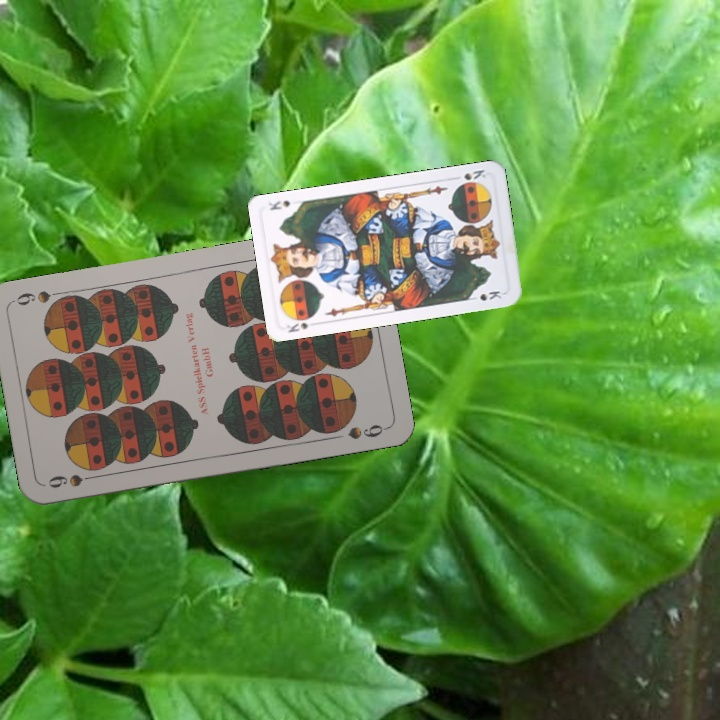S9: (44, 463, 102, 491)
SK: (283, 312, 321, 335), (449, 166, 488, 183)
